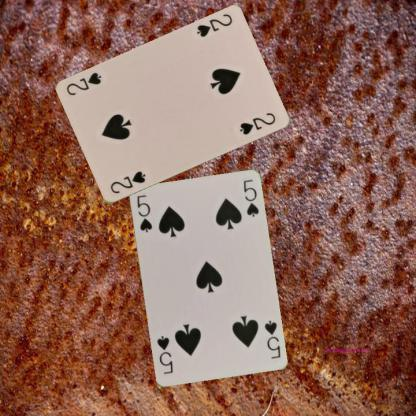2s: (107, 168, 147, 196), (194, 12, 234, 38)
5s: (262, 318, 282, 360), (134, 192, 153, 234)
